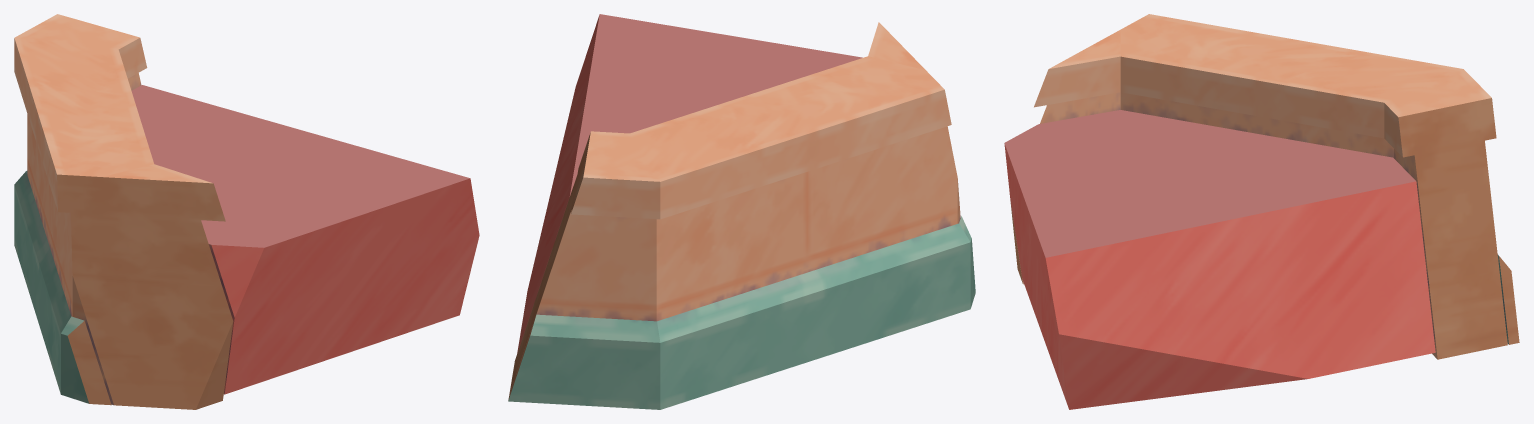
The model's file is vat_s01.fbx.
3 views of the same model, side by side, from view 1: azimuth 30°, elevation 25°; view 2: azimuth 150°, elevation 25°; view 3: azimuth 270°, elevation 25° (orthographic). The views are drawn at different scales.
Parts seen in each view (by area): view 1: vat_s01; view 2: vat_s01; view 3: vat_s01.
Part boxes in pixels (bbox=[...]): vat_s01: bbox=[14, 14, 479, 409]; vat_s01: bbox=[508, 14, 975, 409]; vat_s01: bbox=[1004, 14, 1519, 409].
Size of the model in its own units: 3.33 by 1.7 by 3.66.
